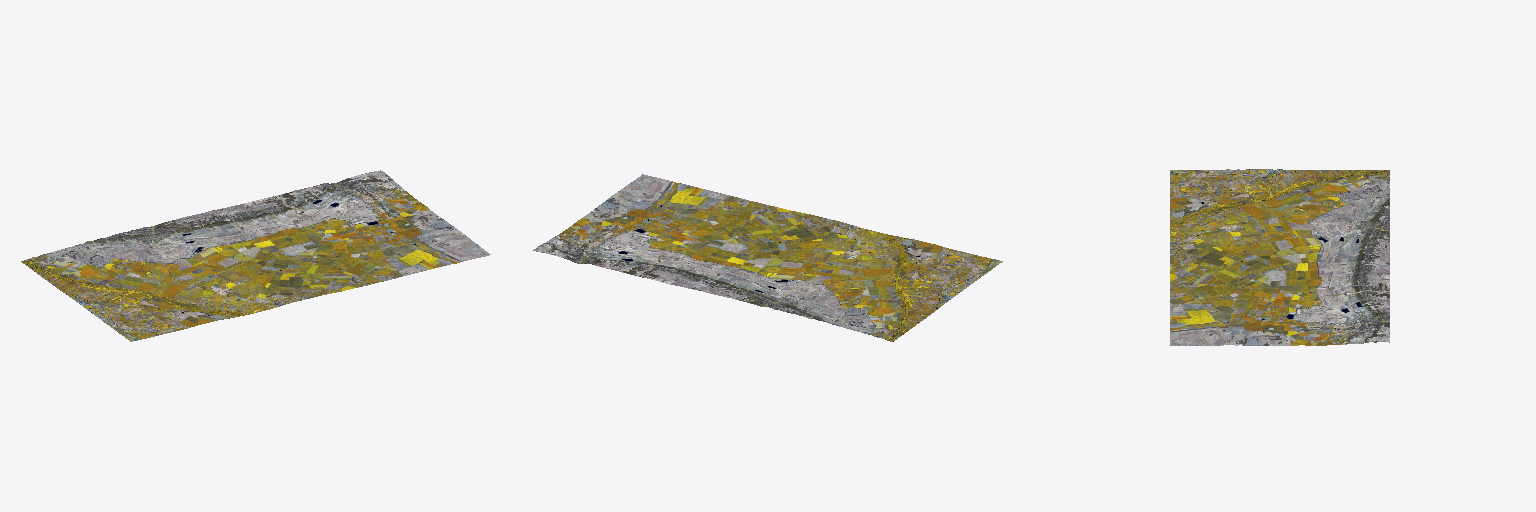
The picture shows the model from 3 angles: view 1: azimuth 30°, elevation 25°; view 2: azimuth 150°, elevation 25°; view 3: azimuth 270°, elevation 25°; orthographic projection.
Parts seen in each view (by area): view 1: futurA_MetElipResi; view 2: futurA_MetElipResi; view 3: futurA_MetElipResi.
Boxes of the visible parts, x1=… form: futurA_MetElipResi: x1=21, y1=170, x2=490, y2=341; futurA_MetElipResi: x1=533, y1=174, x2=1002, y2=341; futurA_MetElipResi: x1=1170, y1=169, x2=1389, y2=345.
Size of the model in its own units: 18.33 by 0.3003 by 9.72.
Materials: 1 (1 with a texture image).